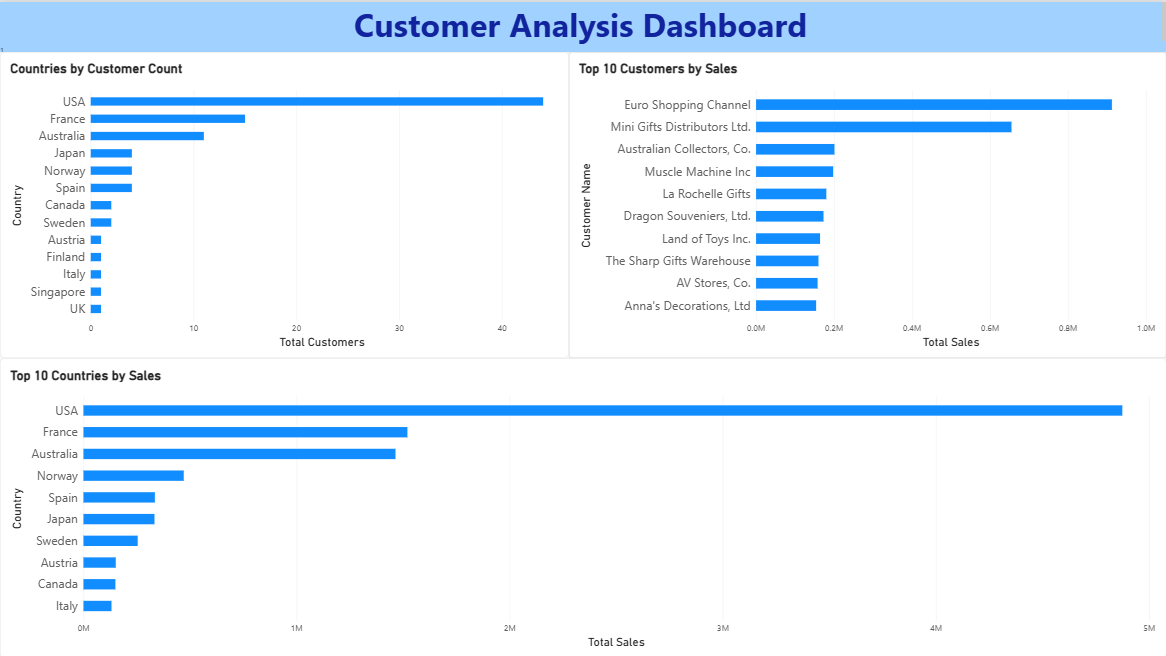

What the dashboard file says about the page in this screenshot:
{"tool":"powerbi","page":{"name":"Customer Analysis","canvas":[1920,1080],"ordinal":1},"visuals":[{"type":"clusteredBarChart","title":"Top 10 Customers by Sales","fields":{"Category":["Customers. Customer_name"],"Y":["sales.Total Sales"]},"box":[936.5,82.3,983.9,504.3],"z":0},{"type":"clusteredBarChart","title":"Top 10 Countries by Sales","fields":{"Category":["Customers. Country"],"Y":["sales.Total Sales"]},"box":[0,586.6,1920.4,494],"z":1000},{"type":"clusteredBarChart","title":" Countries by Customer Count","fields":{"Category":["Customers. Country"],"Y":["Customers.Total Customers"]},"box":[0,82.3,936.5,504.3],"z":2000},{"type":"textbox","box":[0,0,1920.4,82.3],"z":3000}]}

Visuals, with their boxes in screenshot pixels (x1, y1, x2, y2), scaled from the page's 1920x1080 canvas onto the 1166x656 screenshot:
"Top 10 Customers by Sales" clusteredBarChart: [left=569, top=50, right=1165, bottom=356]
"Top 10 Countries by Sales" clusteredBarChart: [left=0, top=356, right=1165, bottom=655]
" Countries by Customer Count" clusteredBarChart: [left=0, top=50, right=569, bottom=356]
textbox: [left=0, top=0, right=1165, bottom=50]
